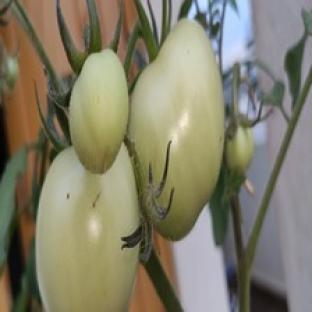Tomato: (129, 20, 224, 239), (37, 145, 139, 311), (70, 49, 129, 174), (226, 126, 254, 174), (3, 56, 19, 90)
